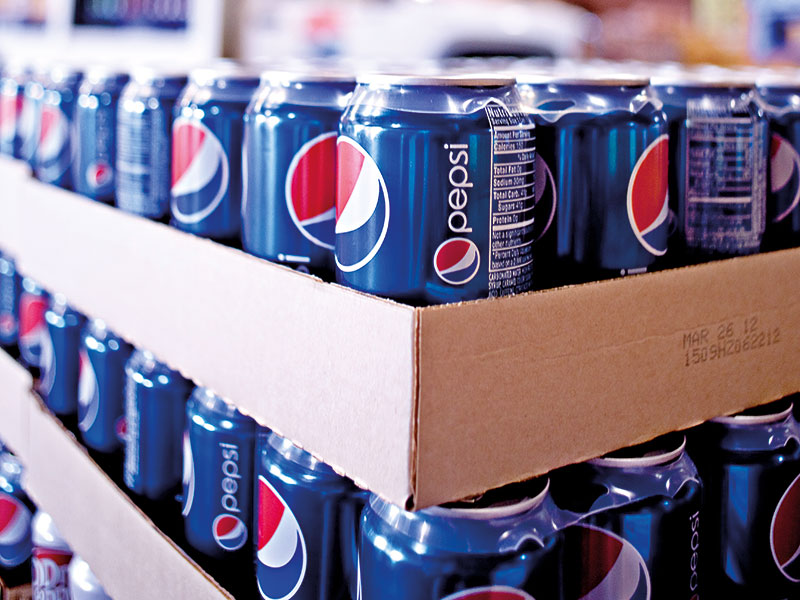pepsi: (337, 136, 387, 274), (257, 468, 308, 596), (170, 118, 226, 221), (288, 128, 334, 253), (624, 128, 669, 255), (581, 524, 649, 598), (765, 467, 799, 572), (38, 104, 68, 171), (211, 510, 248, 549), (89, 156, 106, 192)
